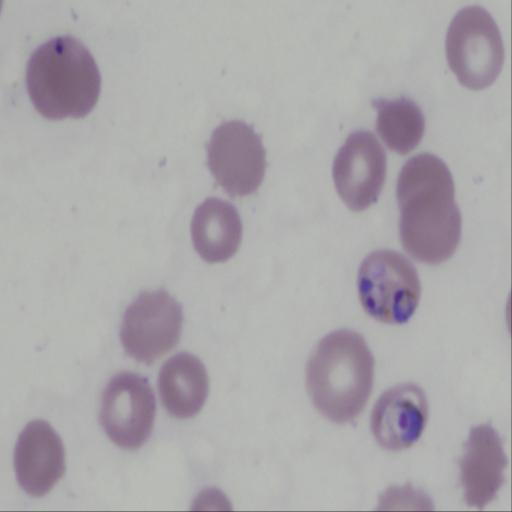Infected: (354, 250, 423, 325), (371, 379, 432, 453)
Uninfected: (23, 35, 99, 121), (304, 329, 374, 422), (447, 5, 506, 90), (119, 288, 185, 363), (207, 119, 269, 198), (331, 130, 387, 213), (400, 193, 460, 265), (14, 418, 66, 496), (102, 371, 154, 445), (399, 154, 456, 221), (190, 197, 244, 265), (156, 353, 210, 416), (373, 94, 425, 154)
